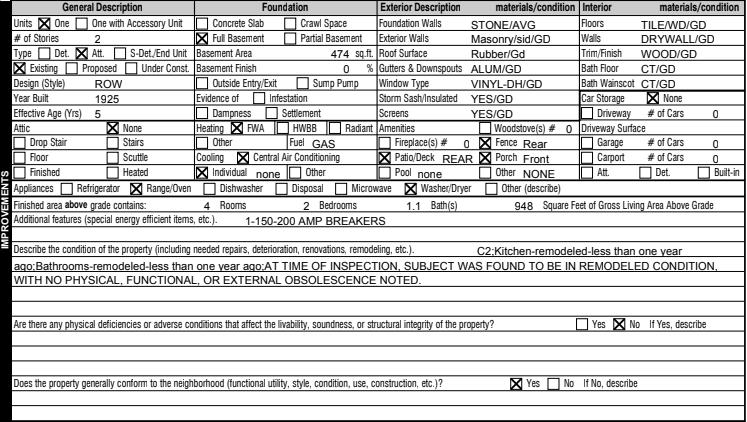checked: (128, 180, 144, 197), (194, 164, 210, 181), (477, 150, 494, 166), (612, 316, 628, 333), (508, 376, 524, 393), (74, 46, 90, 62), (105, 120, 121, 136), (229, 120, 245, 136), (236, 150, 251, 167), (403, 182, 418, 199), (477, 136, 493, 151), (646, 91, 661, 107), (195, 31, 210, 46), (377, 151, 392, 166), (37, 17, 52, 31), (13, 61, 27, 75)
unchecked: (194, 104, 211, 121), (295, 75, 311, 92), (376, 135, 393, 151), (327, 121, 344, 137), (64, 59, 79, 77), (377, 165, 393, 181), (74, 16, 90, 32), (37, 46, 53, 62), (264, 105, 280, 121), (12, 135, 28, 151), (546, 376, 562, 392), (478, 164, 493, 181), (579, 106, 596, 121), (274, 180, 289, 197), (697, 164, 712, 181), (575, 315, 590, 332), (106, 165, 121, 181), (124, 60, 139, 76), (283, 31, 298, 47), (282, 16, 298, 31), (195, 74, 210, 90), (252, 90, 267, 106), (275, 121, 291, 136), (194, 136, 210, 151), (288, 165, 303, 181), (334, 181, 349, 197), (638, 165, 653, 181), (12, 152, 29, 166), (112, 46, 127, 61), (195, 16, 210, 31), (12, 165, 27, 180), (60, 181, 75, 196), (202, 181, 217, 196), (581, 165, 595, 181), (105, 137, 120, 151), (484, 181, 498, 196), (581, 149, 594, 165), (478, 121, 492, 135), (105, 151, 120, 164), (581, 136, 594, 150)
